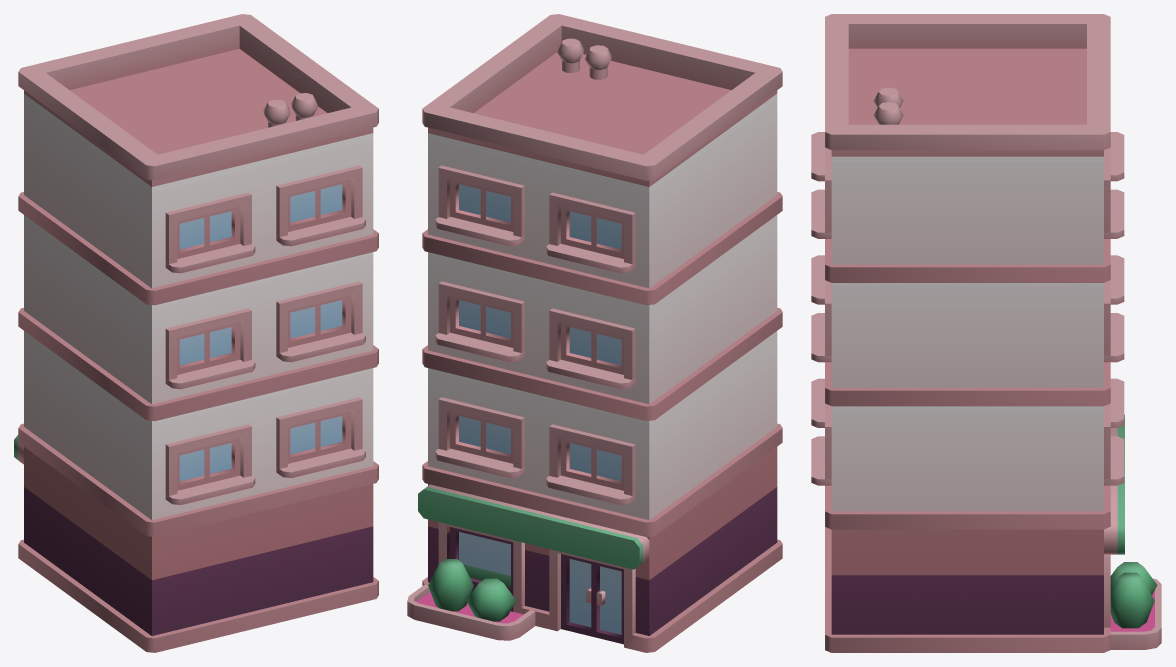
The model's file is apartment_3story.obj.
3 views of the same model, side by side, from view 1: azimuth 30°, elevation 25°; view 2: azimuth 150°, elevation 25°; view 3: azimuth 270°, elevation 25° (orthographic). The views are drawn at different scales.
Visible parts, largest first — view 1: building-f; view 2: building-f; view 3: building-f.
Part boxes in pixels (<box>): building-f: <box>14,14,378,652</box>; building-f: <box>407,14,782,652</box>; building-f: <box>811,14,1161,652</box>.
Bounding box in the file's own units: 16.8 × 33.86 × 20.6.
1 material, 1 textured.
